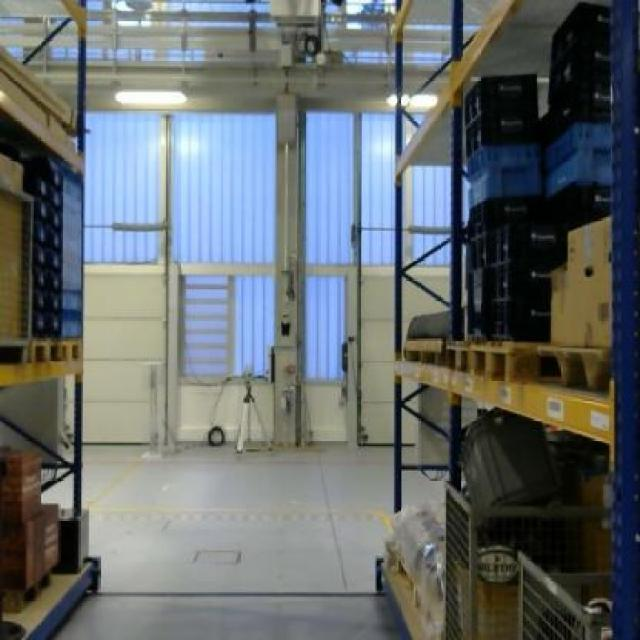box: (564, 215, 610, 348), (0, 158, 25, 337)
